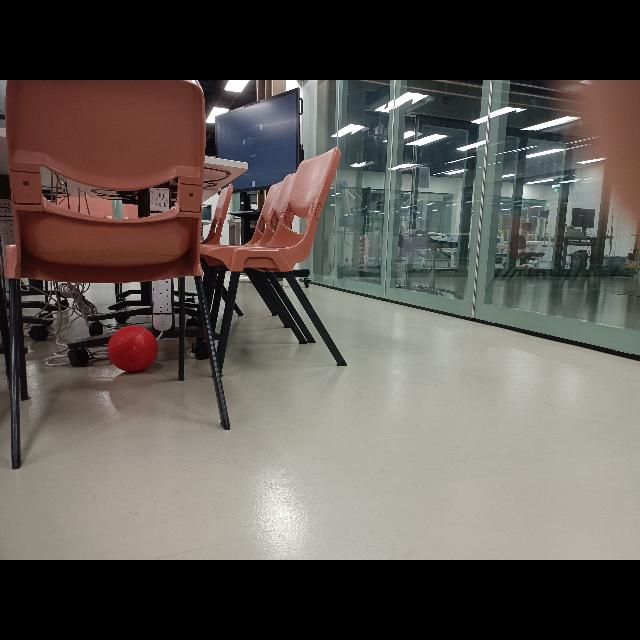R: (108, 325, 158, 371)
